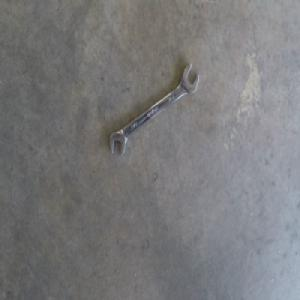Wrench: (109, 62, 198, 156)
